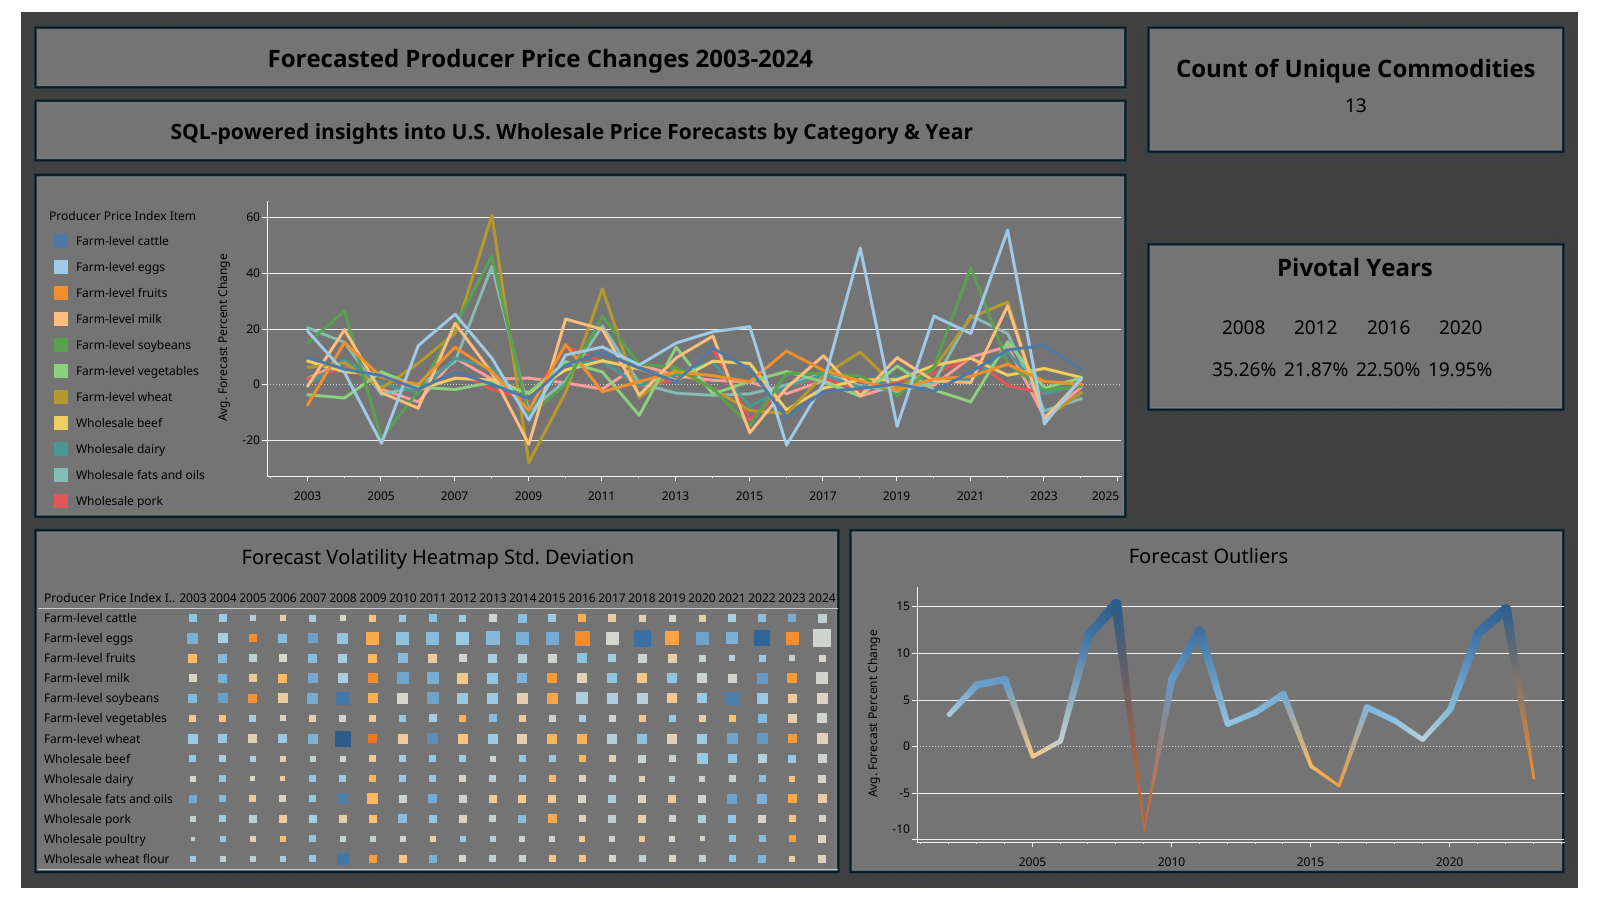

The page's visual inventory and layout, read from the dashboard file:
{"tool":"tableau","page":{"name":"Dashboard 1","canvas":[1600,900],"ordinal":0},"visuals":[{"type":"image","param":"Image/PPI_DashBG.jpg","box":[8,8,1584,884]},{"type":"text","box":[265,8,676,102]},{"type":"worksheet","title":"Unique Commod.","mark":"Automatic","box":[1151,29,411,121]},{"type":"text","box":[168,98,983,68]},{"type":"legend","title":"Trend By Category","param":"[federated.049wn3e16to39u1188v710uq6leb].[none:producer_price_index_item:nk]","box":[48,201,161,313]},{"type":"worksheet","title":"Trend By Category","mark":"Automatic","rows":["forecast_percent_change"],"cols":["year_being_forecast"],"box":[203,201,918,308]},{"type":"worksheet","title":"Forecast Outliers","mark":"Automatic","rows":["forecast_percent_change"],"cols":["year_of_forecast"],"box":[853,529,711,346]},{"type":"worksheet","title":"Forecast Volatility","mark":"Automatic","rows":["producer_price_index_item"],"cols":["year_being_forecast"],"box":[38,530,800,340]}]}

Visuals, with their boxes in screenshot pixels (x1, y1, x2, y2), scaled from the page's 1600x900 canvas onto the 1599x899 screenshot:
image: (x1=8, y1=8, x2=1591, y2=891)
text: (x1=265, y1=8, x2=940, y2=110)
"Unique Commod." worksheet: (x1=1150, y1=29, x2=1561, y2=150)
text: (x1=168, y1=98, x2=1150, y2=166)
"Trend By Category" legend: (x1=48, y1=201, x2=209, y2=513)
"Trend By Category" worksheet: (x1=203, y1=201, x2=1120, y2=508)
"Forecast Outliers" worksheet: (x1=852, y1=528, x2=1563, y2=874)
"Forecast Volatility" worksheet: (x1=38, y1=529, x2=837, y2=869)
